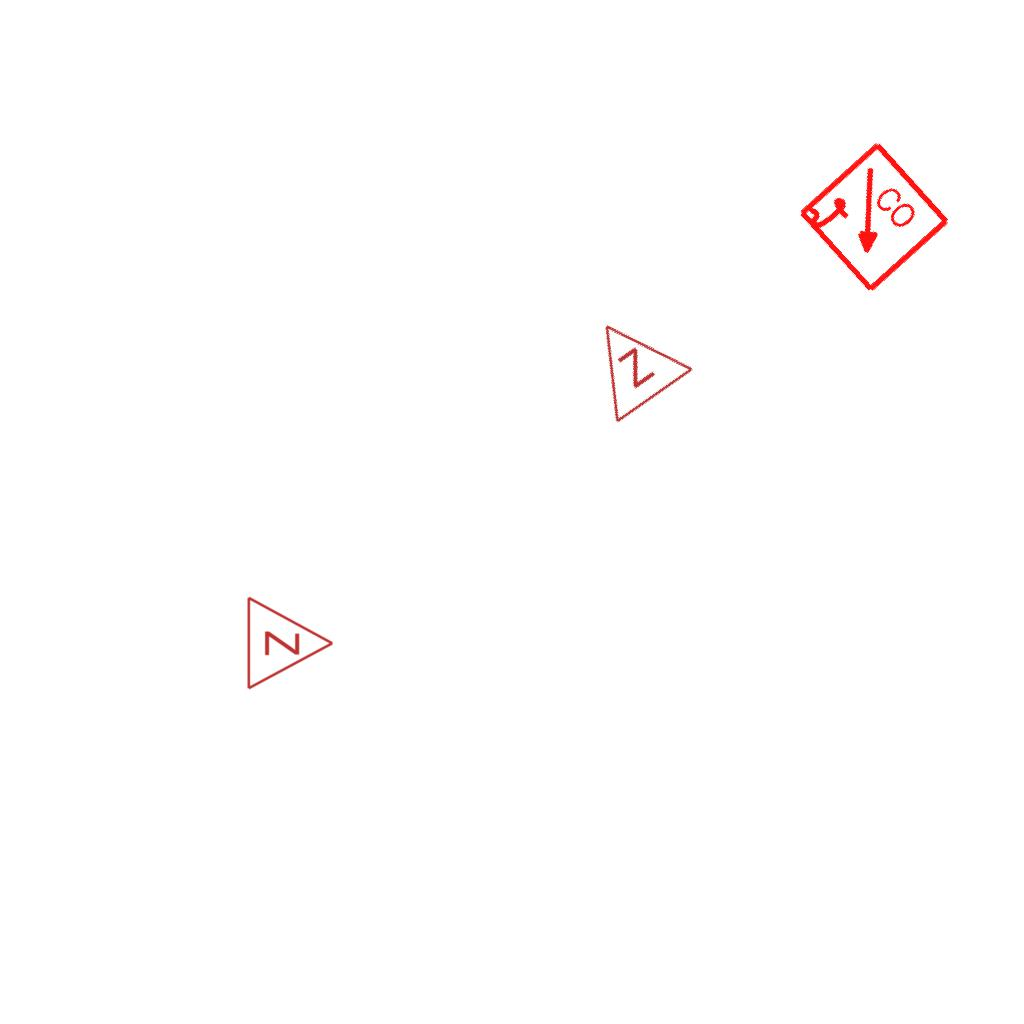ROA_Rauchmelder_optisch_mit_Signalgeber_(Sockelsirene): (793, 138, 954, 299)
Zimmersignalleuchte: (561, 292, 699, 432), (240, 593, 340, 691)
